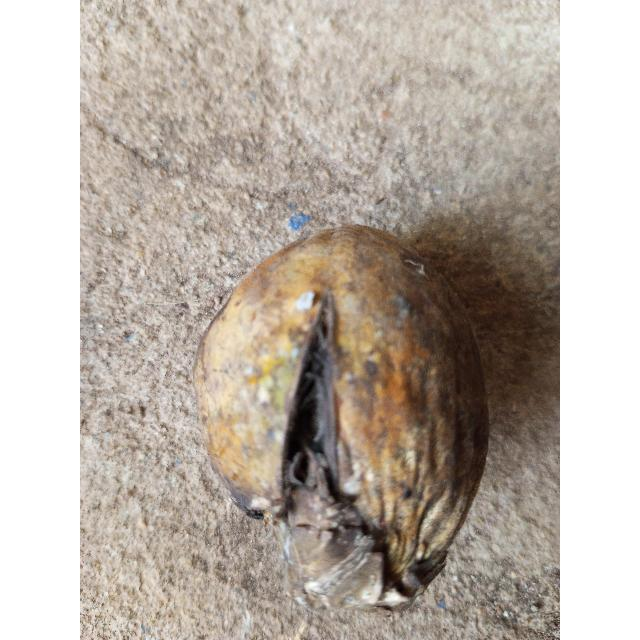damaged: (192, 225, 491, 615)
